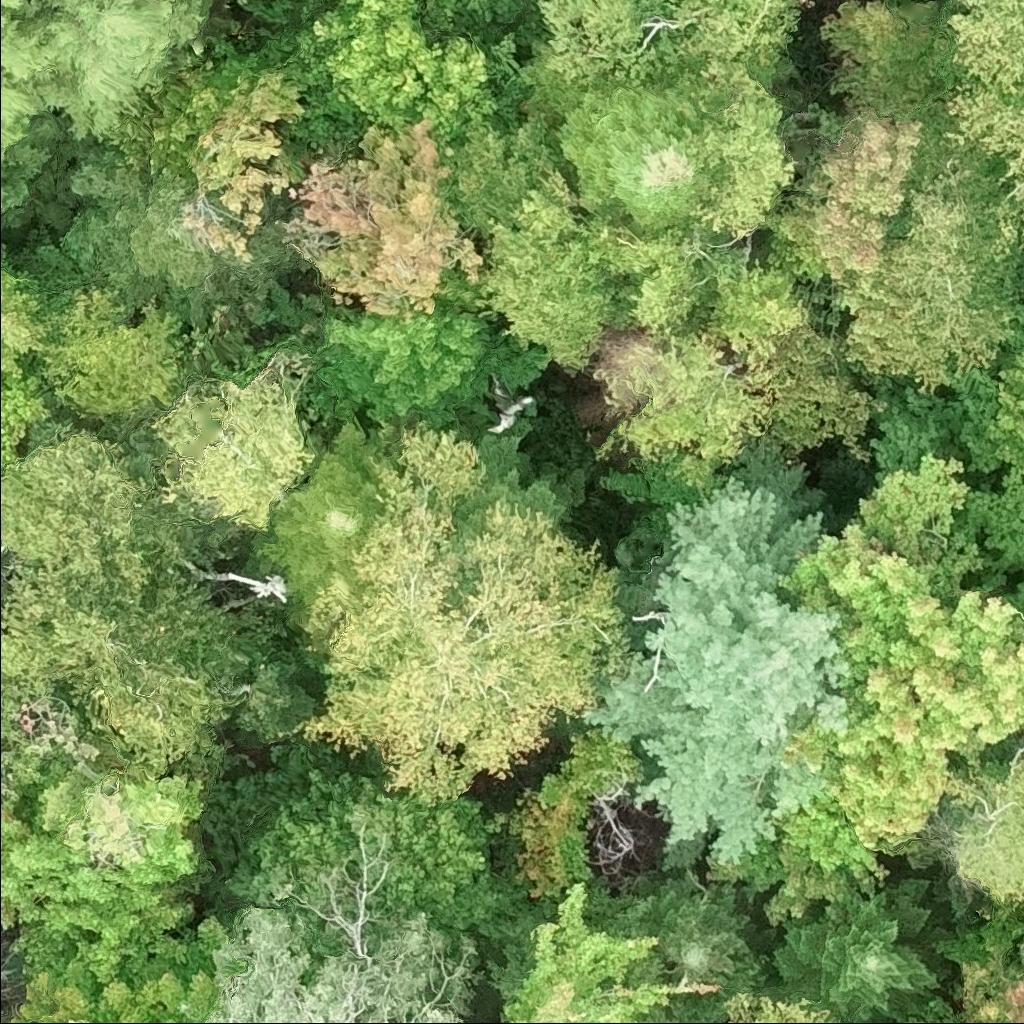crown: (286, 429, 636, 806), (586, 475, 851, 864), (778, 455, 1023, 875), (518, 0, 799, 234), (0, 548, 252, 782), (195, 828, 475, 1023), (773, 0, 936, 284), (438, 112, 619, 367), (603, 219, 800, 452), (0, 767, 205, 989), (117, 58, 309, 259), (251, 771, 493, 926), (297, 116, 486, 311), (299, 0, 503, 158), (509, 872, 720, 1023), (889, 154, 1018, 389), (311, 301, 549, 427), (155, 347, 309, 531), (506, 728, 660, 900), (29, 0, 210, 143), (562, 78, 723, 233), (256, 424, 388, 611), (13, 915, 224, 1023), (0, 435, 151, 585), (593, 876, 765, 1000), (773, 892, 935, 1023), (944, 0, 1023, 246), (24, 293, 180, 415), (766, 322, 885, 463), (951, 355, 1023, 561), (941, 757, 1023, 908), (831, 241, 913, 376), (136, 159, 214, 287), (908, 948, 1023, 1023), (0, 632, 47, 810), (0, 0, 46, 165), (598, 449, 718, 511), (0, 260, 47, 387), (0, 375, 43, 482), (719, 988, 829, 1023), (0, 161, 30, 217), (1001, 575, 1023, 635), (0, 945, 10, 1017)
